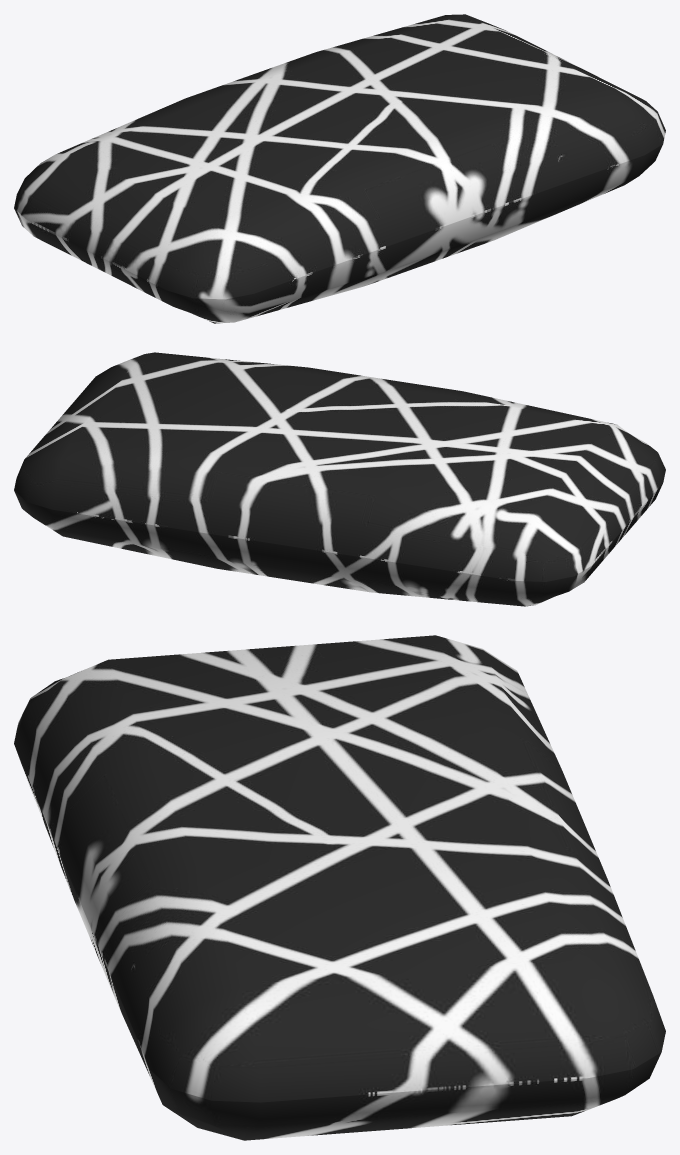
The model's file is pillow.FBX.
3 renders of one model, top to bottom at view 1: azimuth 30°, elevation 25°; view 2: azimuth 150°, elevation 25°; view 3: azimuth 270°, elevation 25°, orthographic. The views are drawn at different scales.
Parts seen in each view (by area): view 1: ChamferBox002; view 2: ChamferBox002; view 3: ChamferBox002.
Part boxes in pixels (bbox=[...]): ChamferBox002: bbox=[14, 14, 665, 323]; ChamferBox002: bbox=[14, 352, 665, 606]; ChamferBox002: bbox=[14, 635, 665, 1140].
Bounding box in the file's own units: 49.1 × 9.24 × 31.45.
